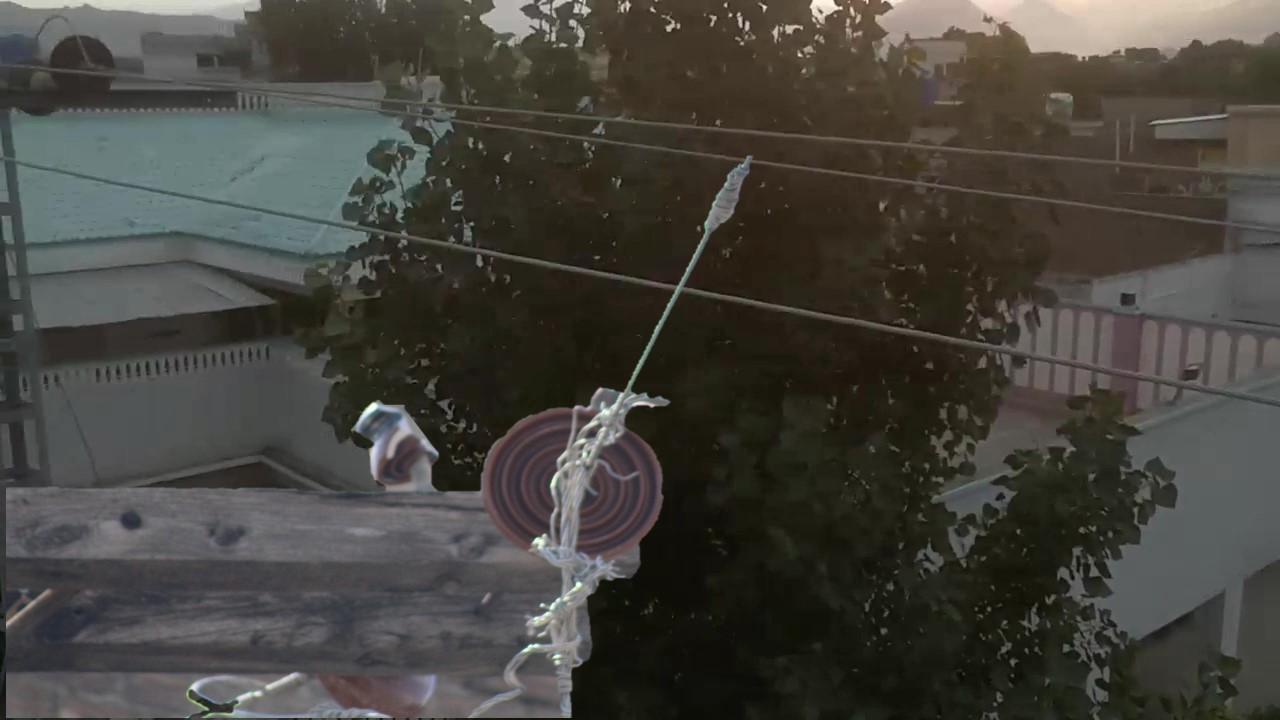defect_pin: (347, 392, 446, 499)
insulator_disc: (478, 389, 673, 565)
